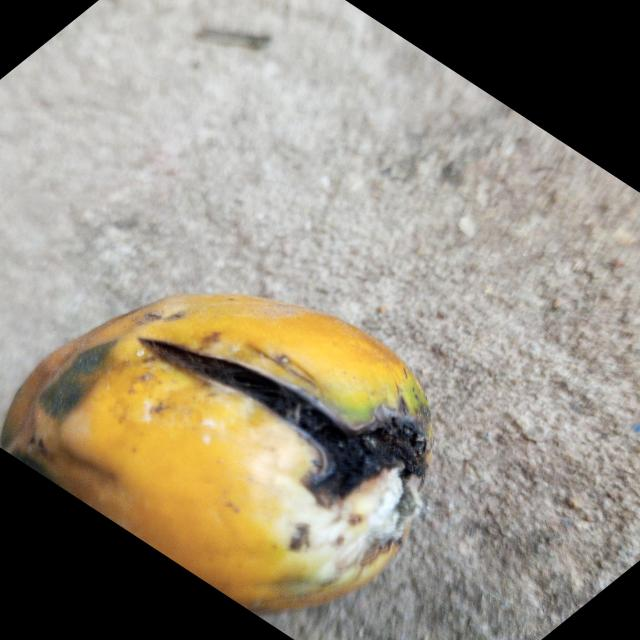damaged: (2, 295, 432, 613)
